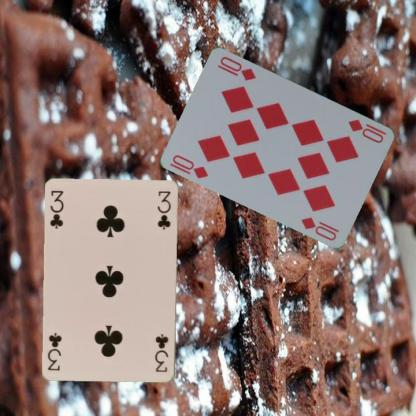10d: (346, 116, 388, 145), (168, 152, 210, 180)
3c: (47, 188, 66, 230), (152, 332, 170, 373)
